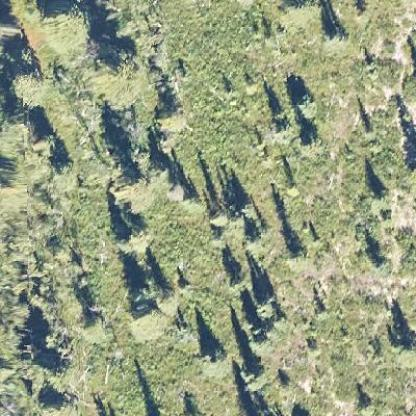tree-top: (86, 45, 150, 100), (40, 2, 92, 45), (8, 62, 50, 104), (126, 296, 168, 337), (150, 98, 193, 134), (117, 221, 155, 257), (316, 21, 348, 51), (386, 332, 415, 365), (199, 340, 232, 368), (290, 92, 320, 119), (298, 131, 328, 157), (249, 292, 276, 320), (284, 244, 312, 268), (369, 183, 392, 206), (180, 192, 204, 214), (224, 271, 248, 292), (372, 250, 393, 274)
